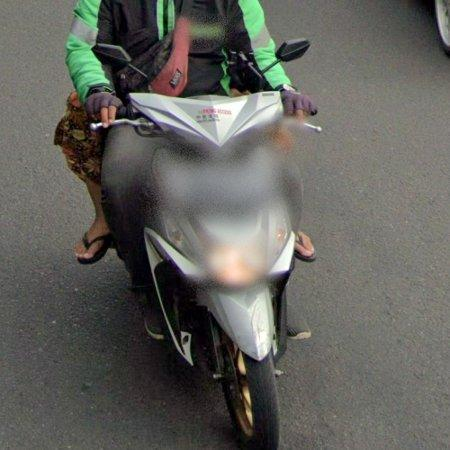motorcycles: (94, 44, 317, 450)
